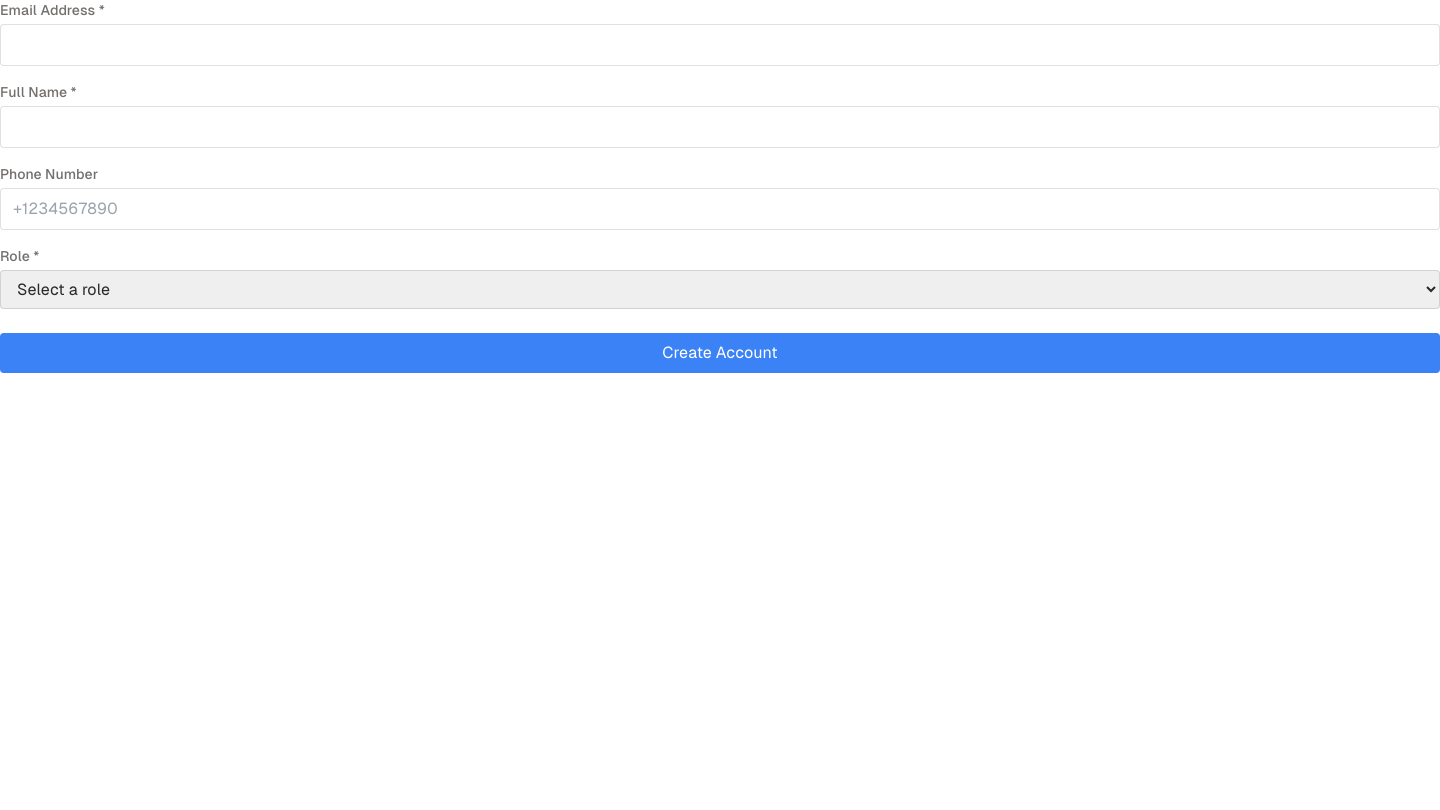
Scenario: CreateAccountForm › Temporary Password Modal › shows temporary password modal after successful creation
Note: Fill and submit form
Step 1. Type "test@example.com" into the field labelled "Email Address *" → (720, 45), box left=0, top=24, right=1439, bottom=66
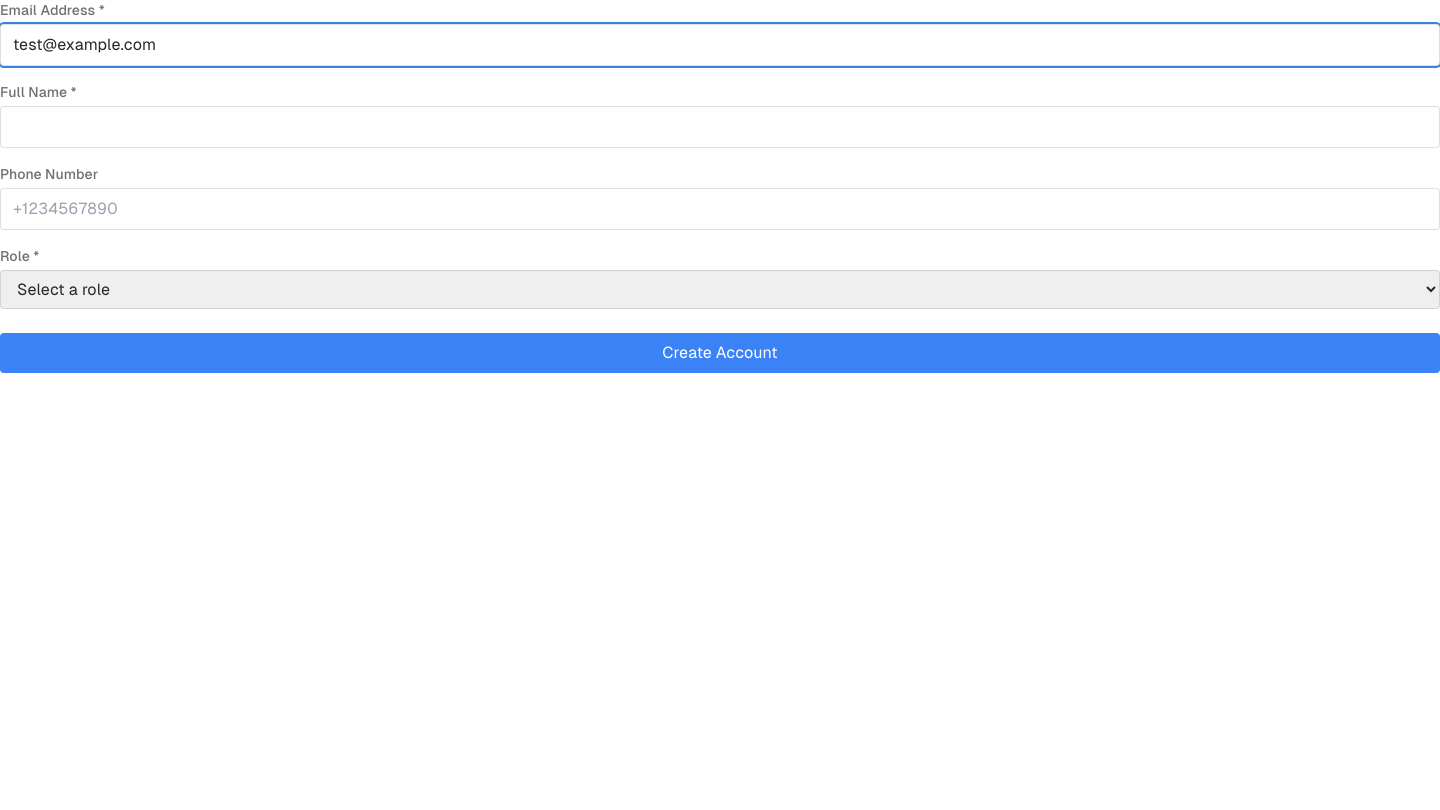
Step 2. Type "Test User" into the field labelled "Full Name *" → (720, 127), box left=0, top=106, right=1439, bottom=148
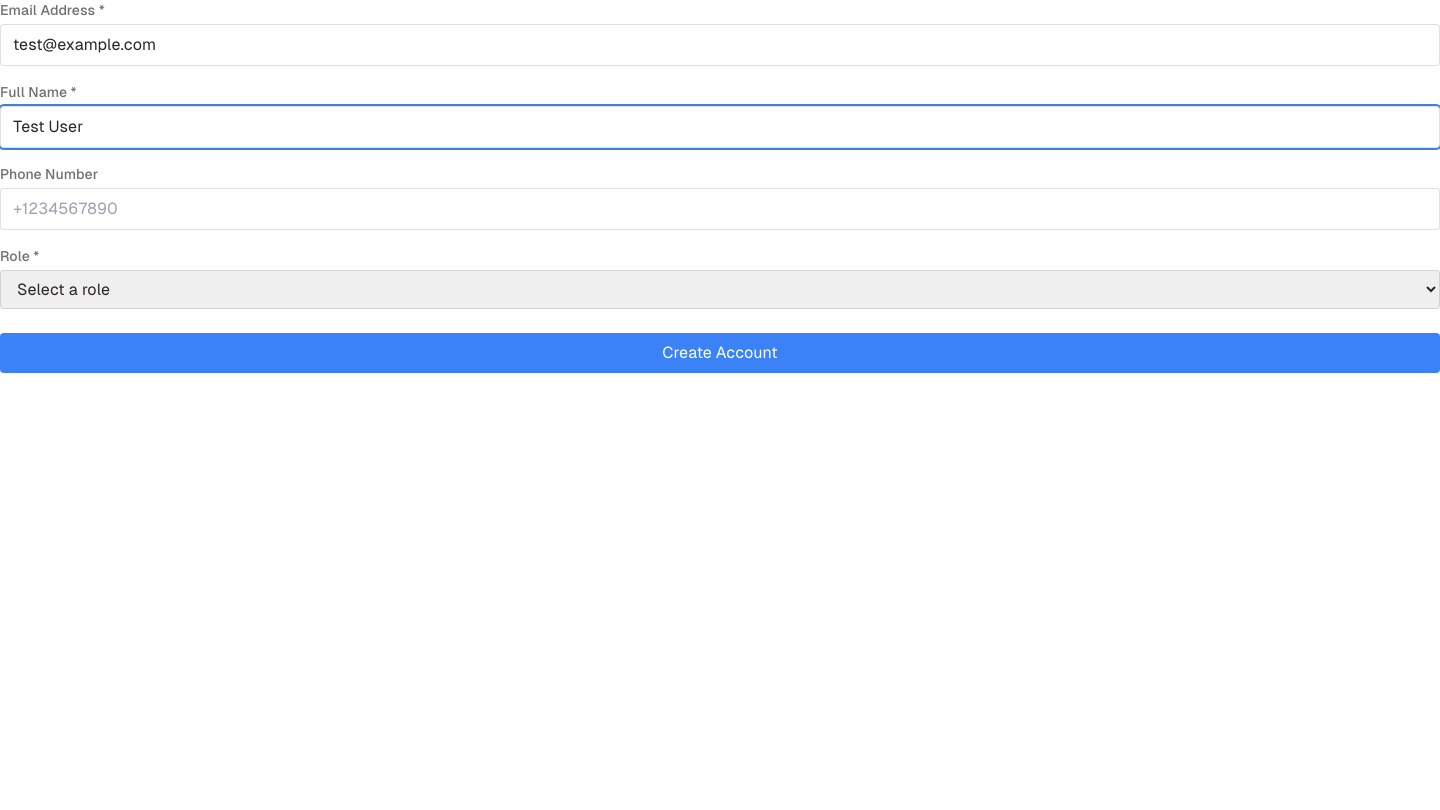
Step 3. Select "User" in the dropdown labelled "Role *" → (720, 290), box left=0, top=270, right=1439, bottom=309
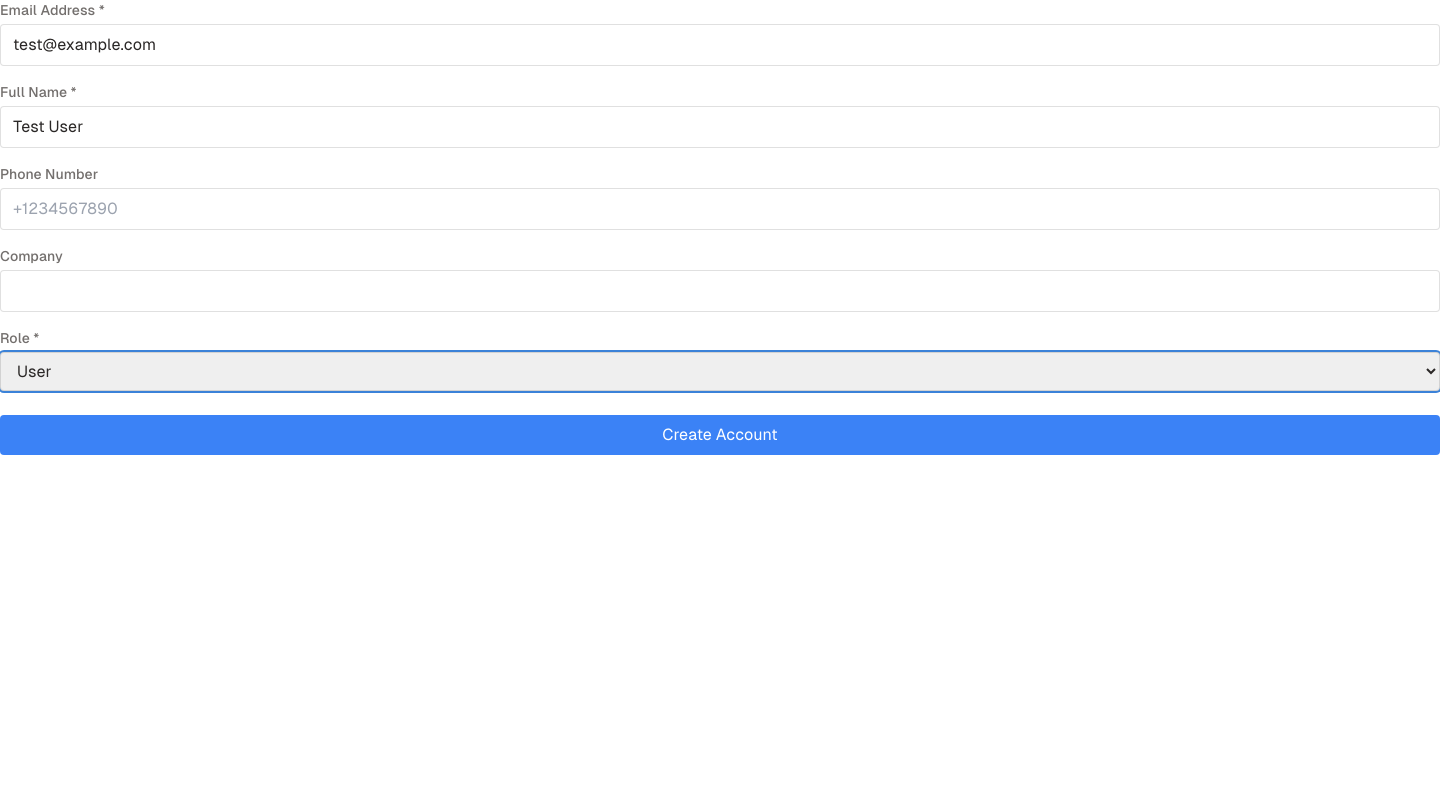
Step 4. Click the button "Create Account" → (720, 435), box left=0, top=415, right=1439, bottom=455
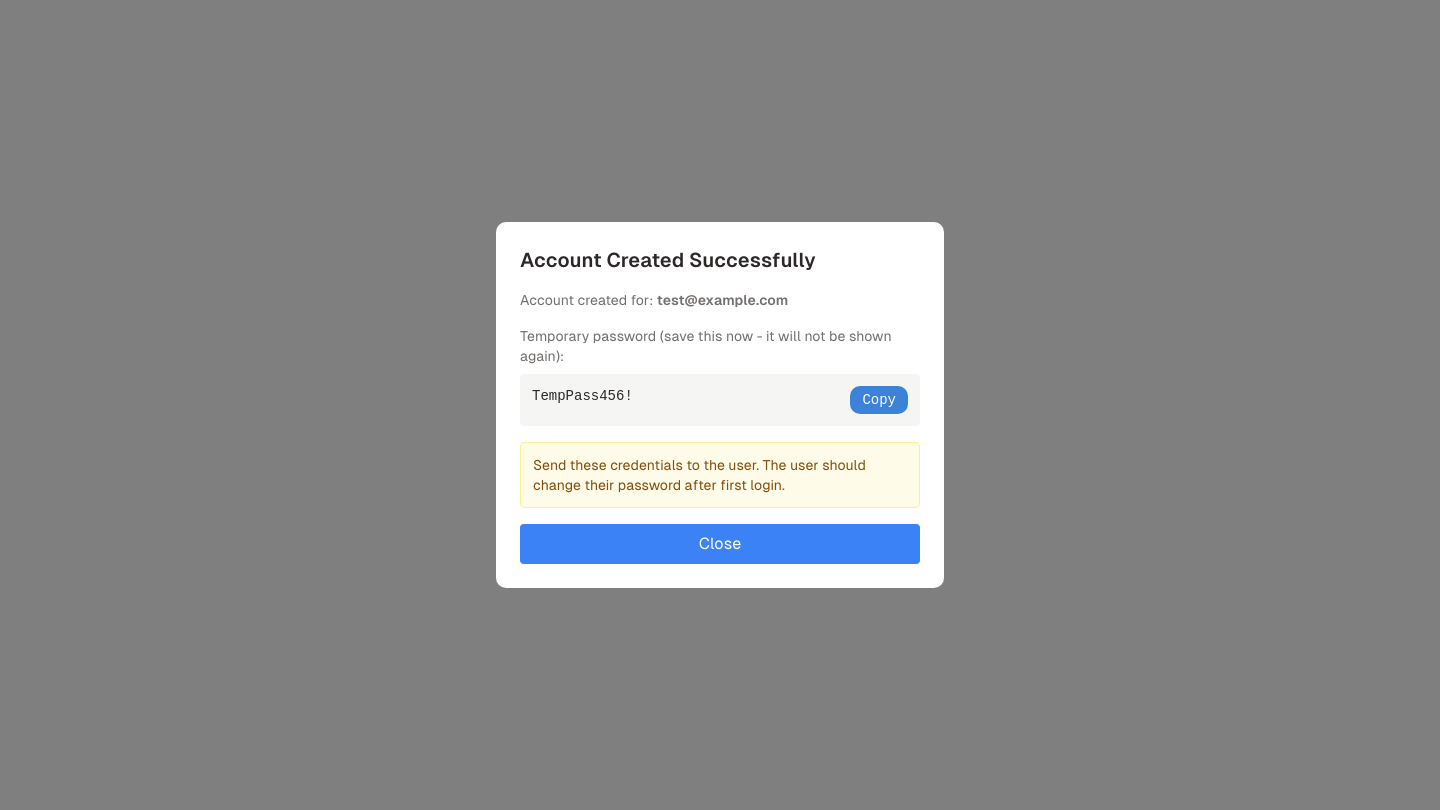
Result: the heading "Account Created Successfully" is shown at left=520, top=249, right=816, bottom=271
Result: the text "TempPass456!" is shown at left=532, top=388, right=633, bottom=404
Result: the text "save this now - it will not be shown again" is shown at left=520, top=328, right=892, bottom=364
